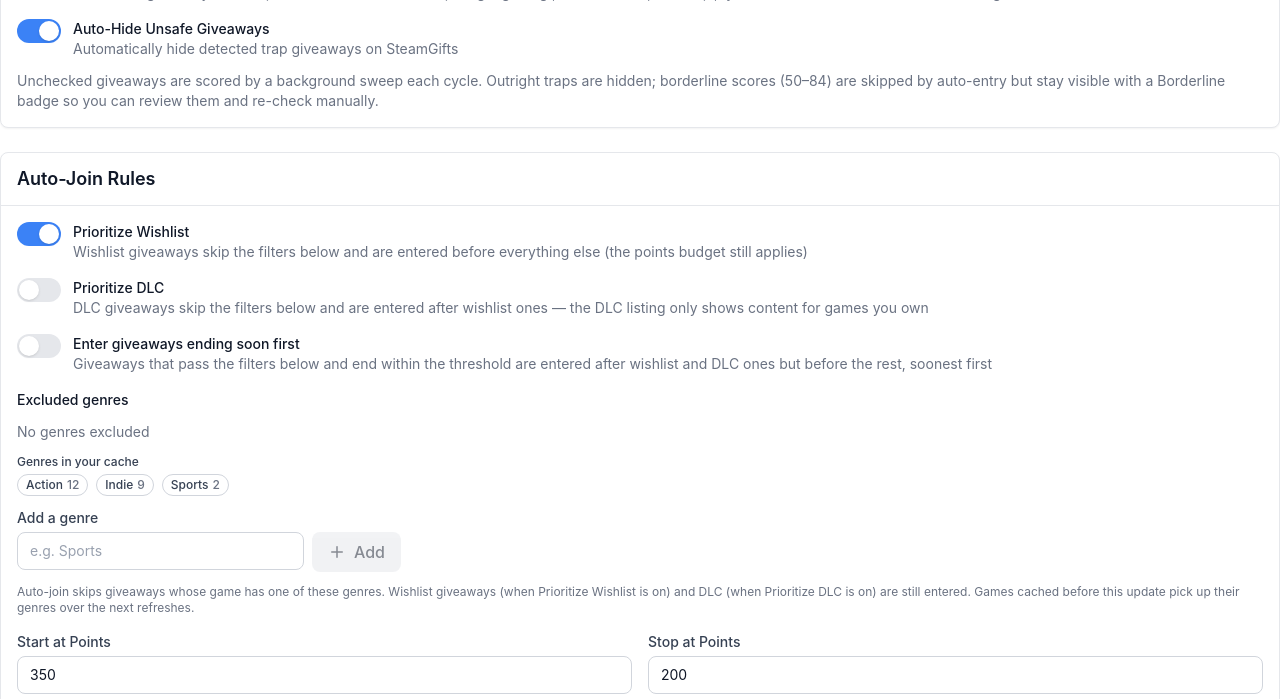
Test case: Settings page: ending soon priority (challenger) › shows the saved threshold, not the rejected draft, when toggled back on
This screenshot has width=1280, height=699.
(page scrolled)
Click the switch named "Enter giveaways ending soon first" next to "Enter giveaways ending soon first". click: click(39, 346)
box: [17,334,61,358]
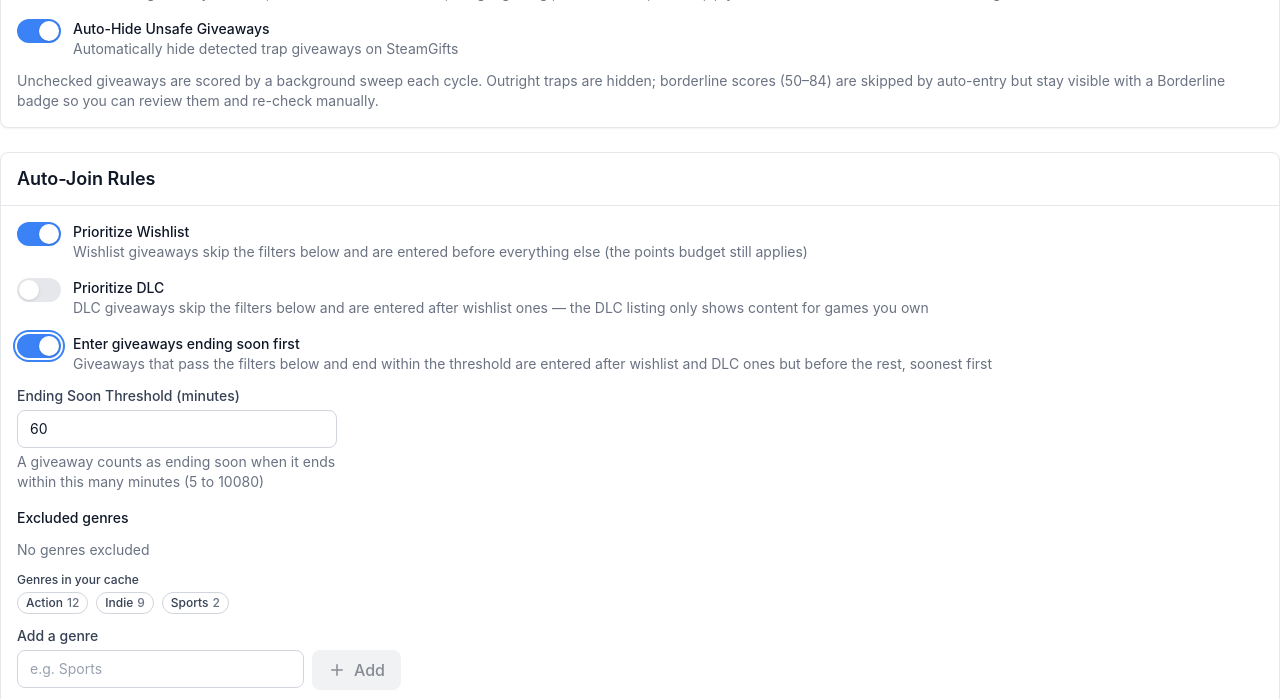
Replace the text in the number field labelled "Ending Soon Threshold (minutes)" with "4". click: (177, 429)
box: [17,410,337,448]
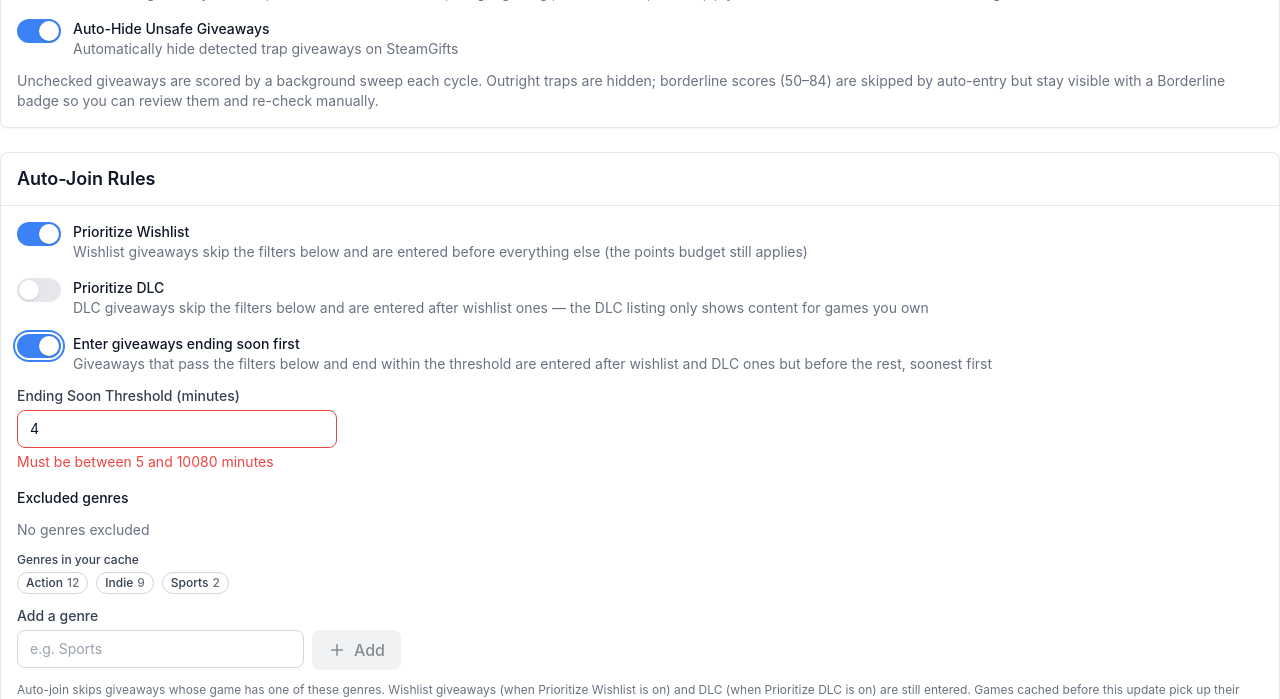
Click the switch named "Enter giveaways ending soon first" next to "Enter giveaways ending soon first". click: click(39, 346)
box: [17,334,61,358]
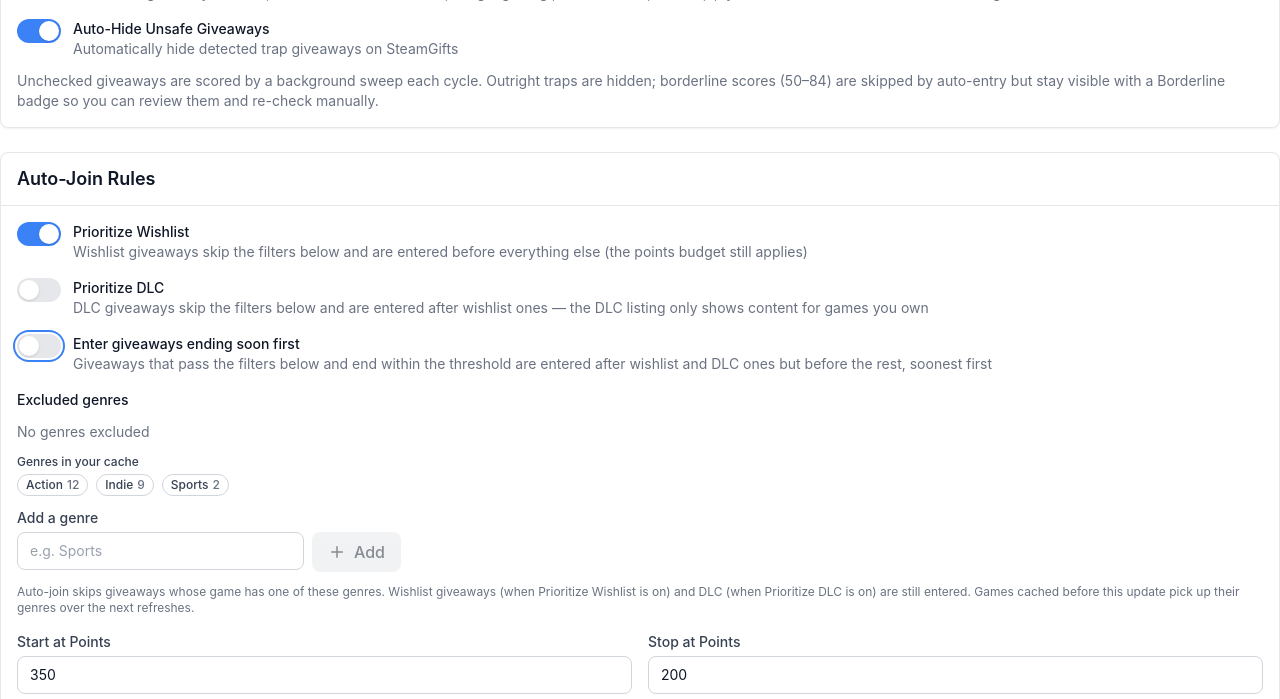
Click the switch named "Enter giveaways ending soon first" next to "Enter giveaways ending soon first". click: click(39, 346)
box: [17,334,61,358]
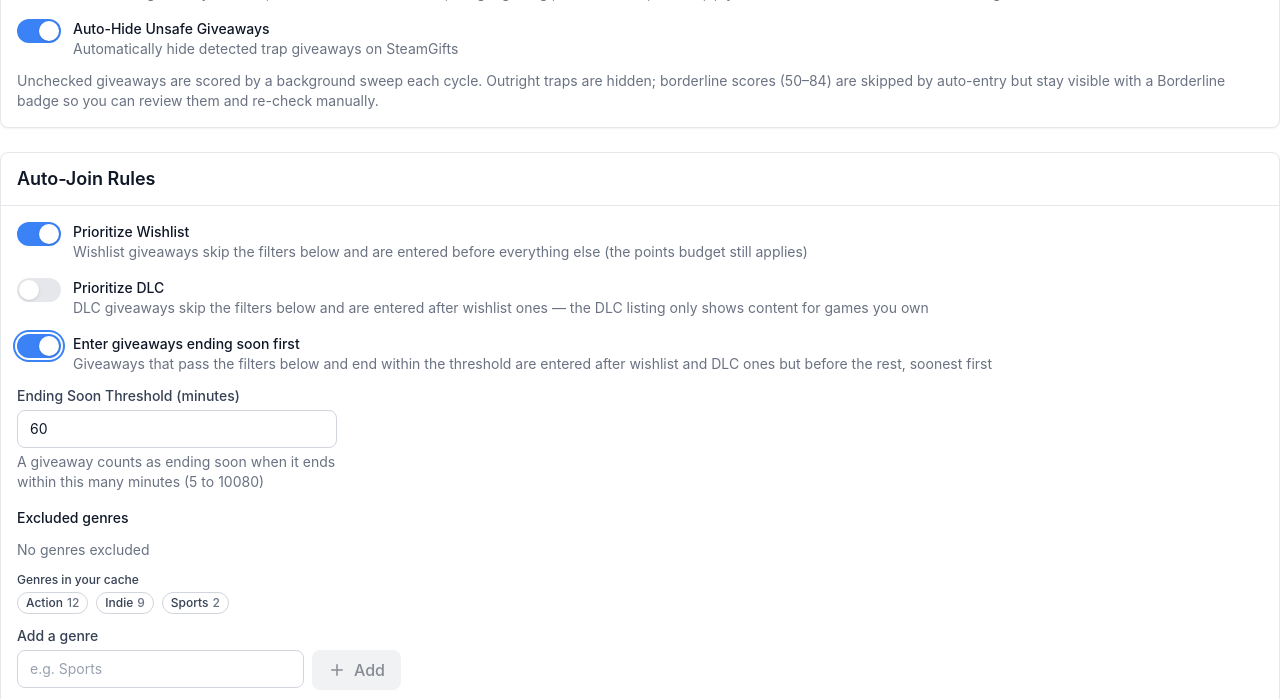
Expected: the message "Must be between 5 and 10080 minutes" is not shown
Expected: the number field labelled "Ending Soon Threshold (minutes)" holds "60", [17,410,337,448]
